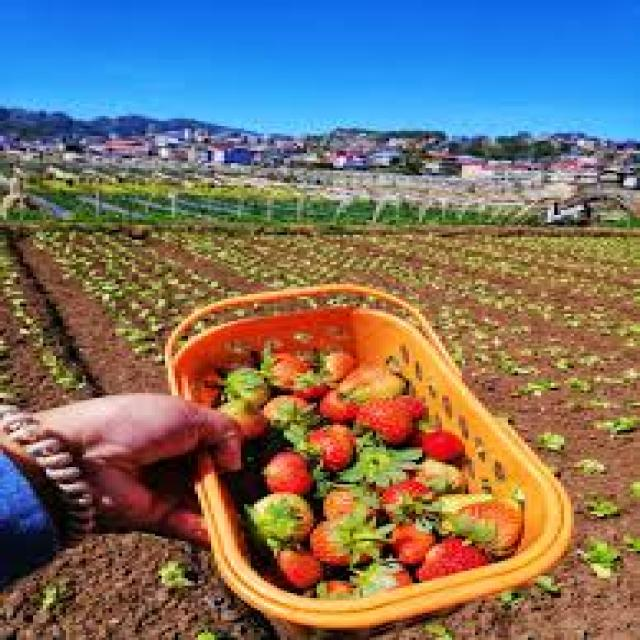basket: (143, 217, 592, 640)
